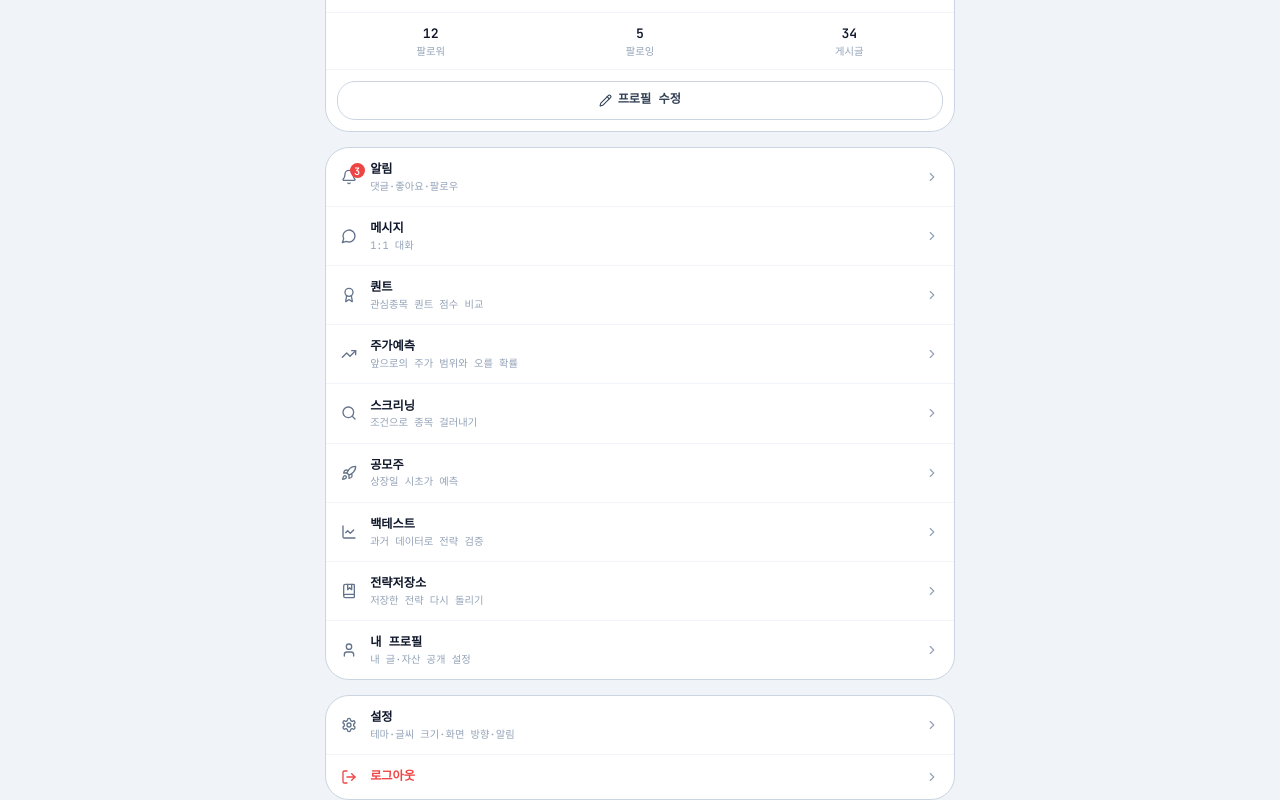
메뉴 › 설정을 누르면 설정 창이 열린다
(page scrolled)
Click the button "설정 테마·글씨 크기·화면 방향·알림".
click(442, 734)  # box 326,696 -> 954,754
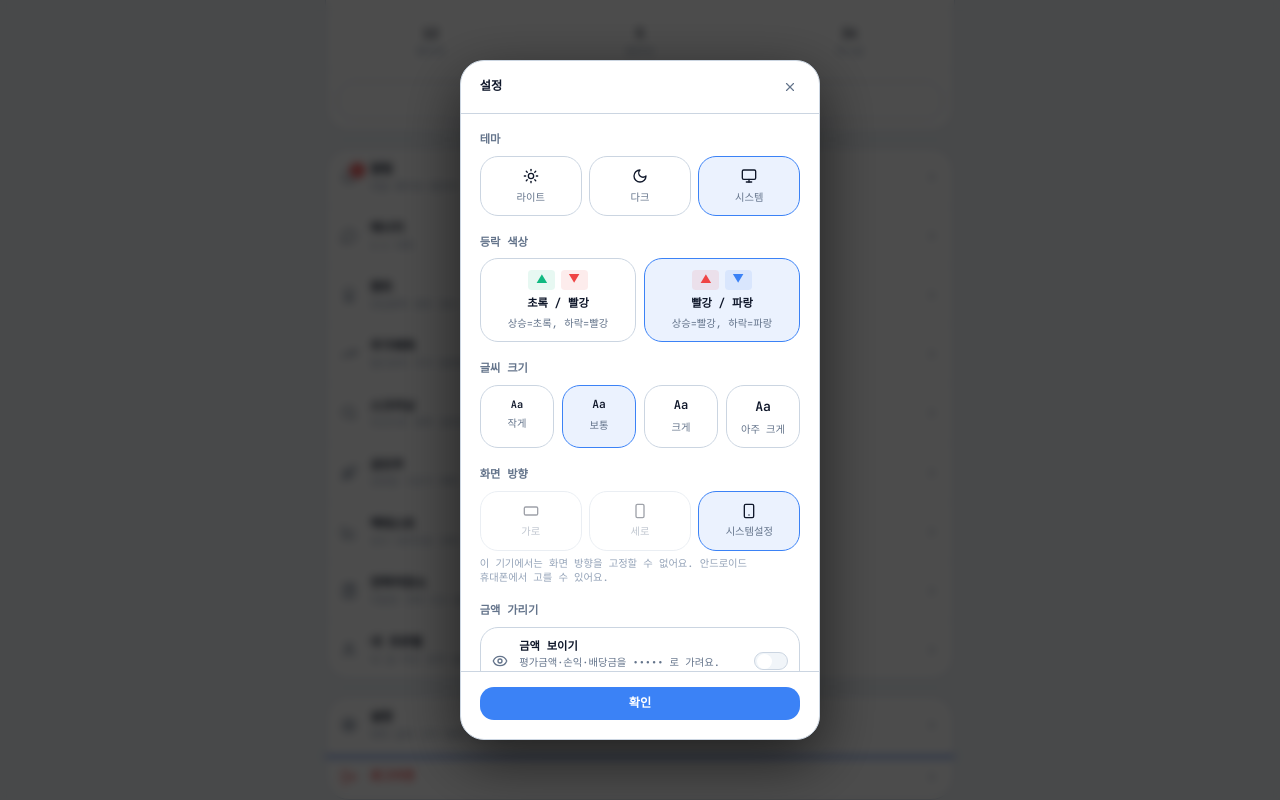
Check: the heading "설정" is shown, box 480,78 -> 502,96
Check: the text "화면 방향" is shown, box 480,467 -> 528,481
